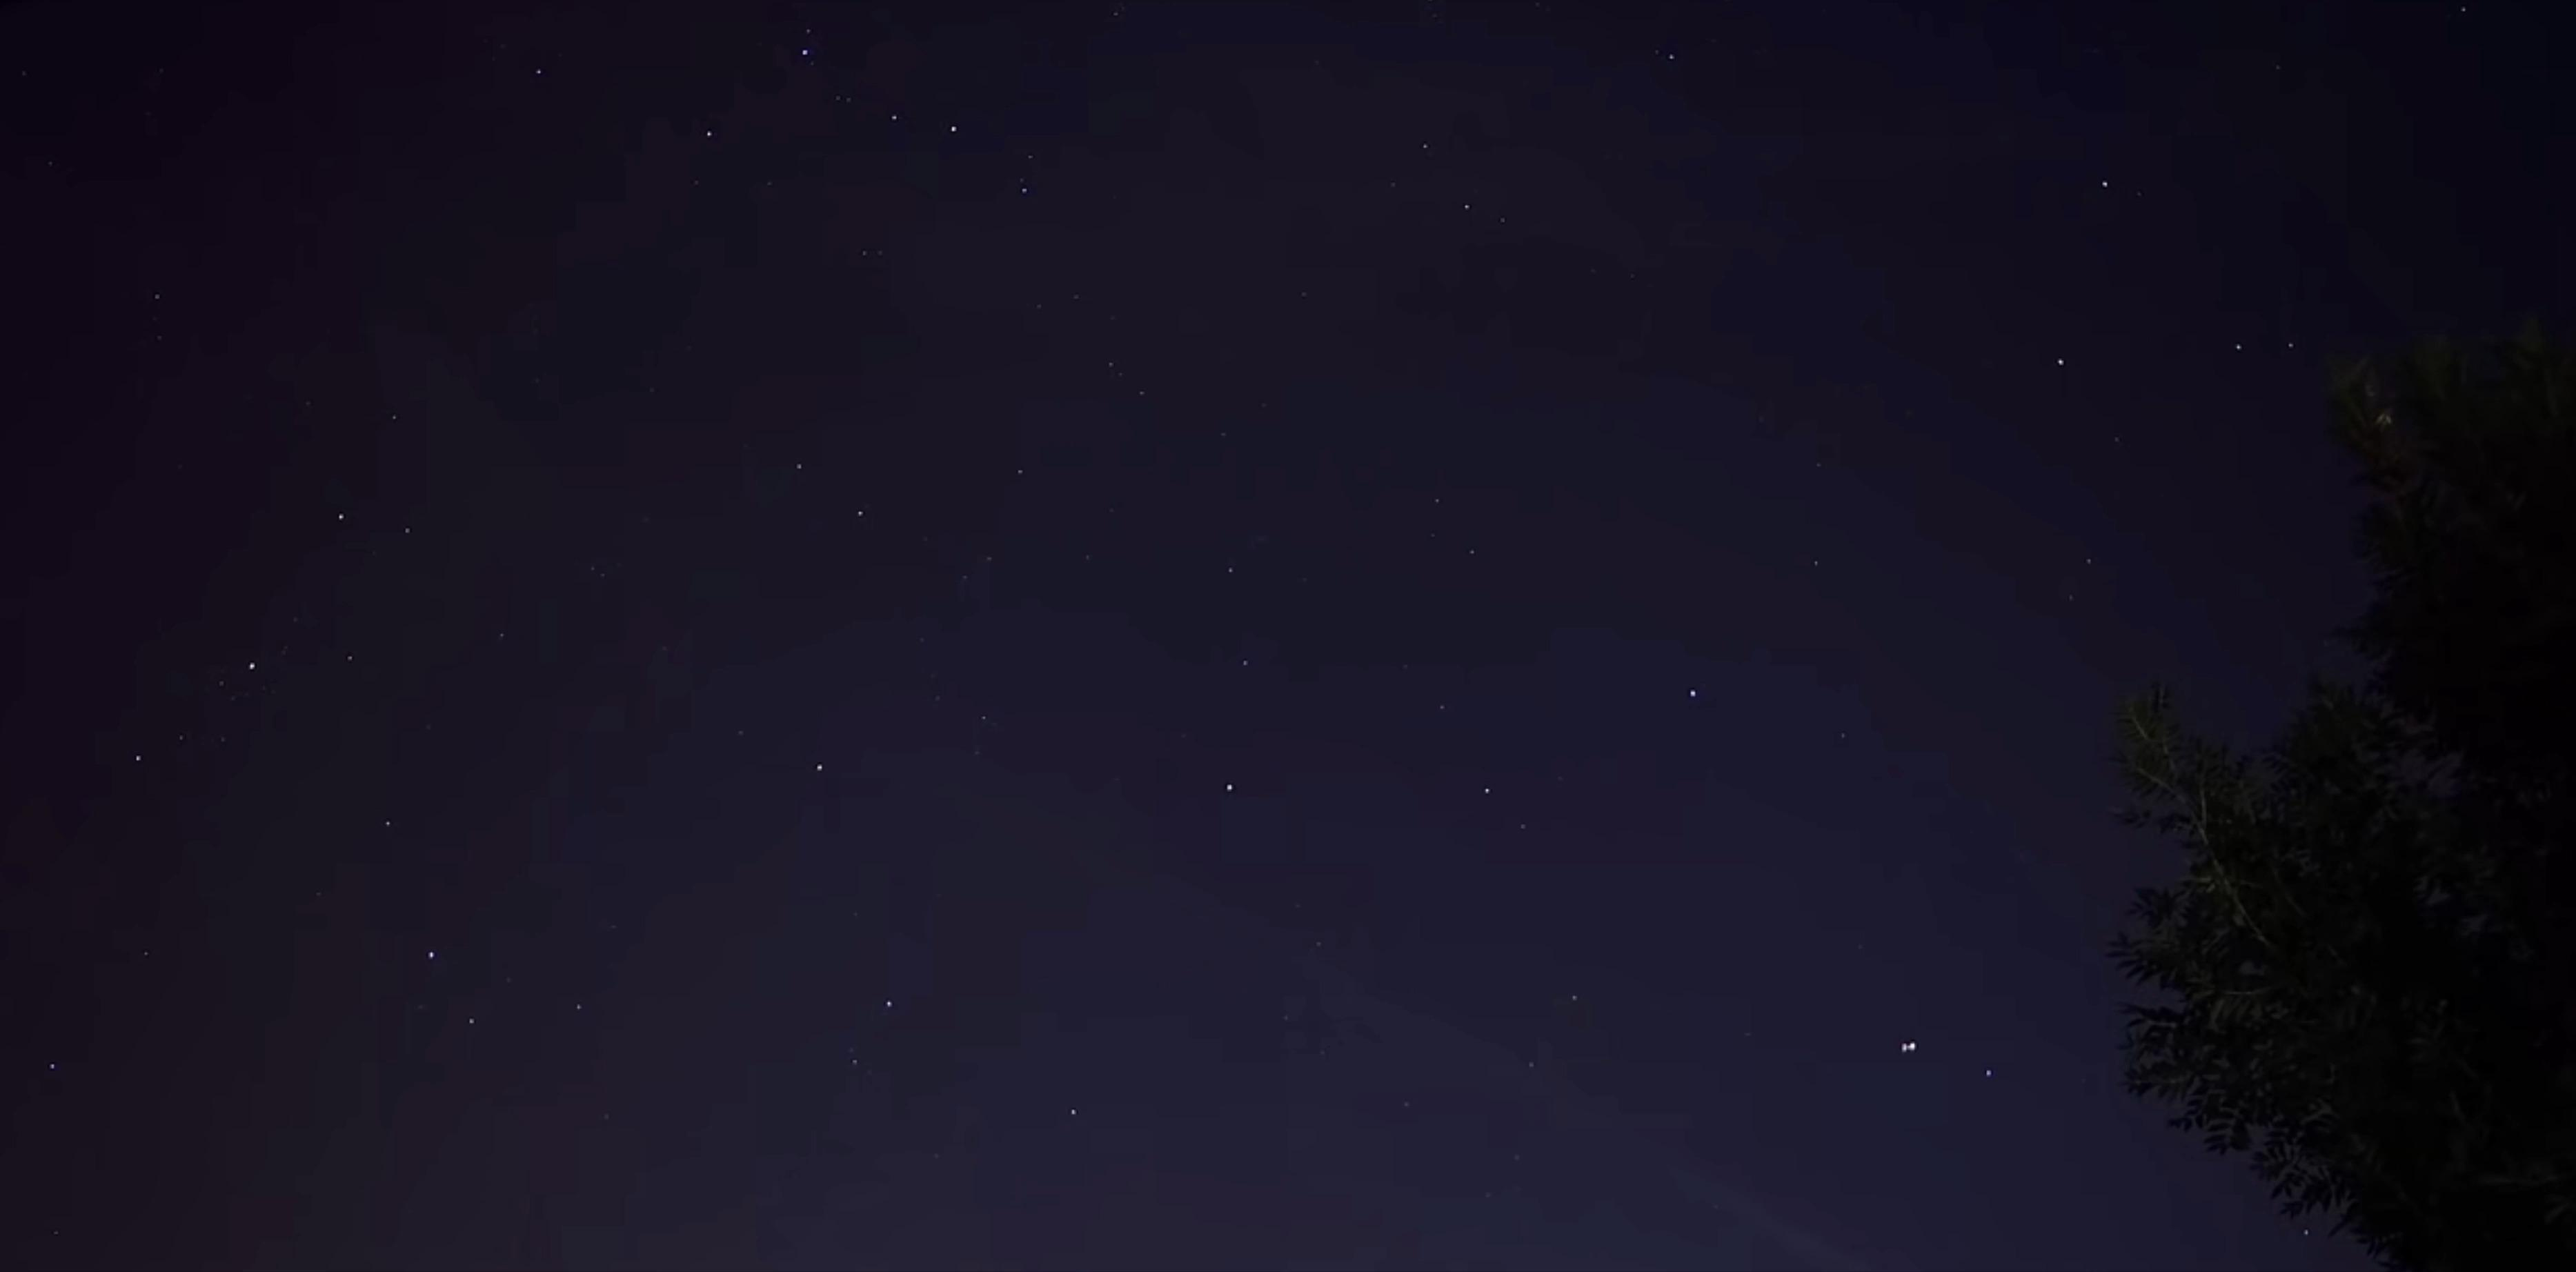Plane: (1881, 1034, 1940, 1058)
